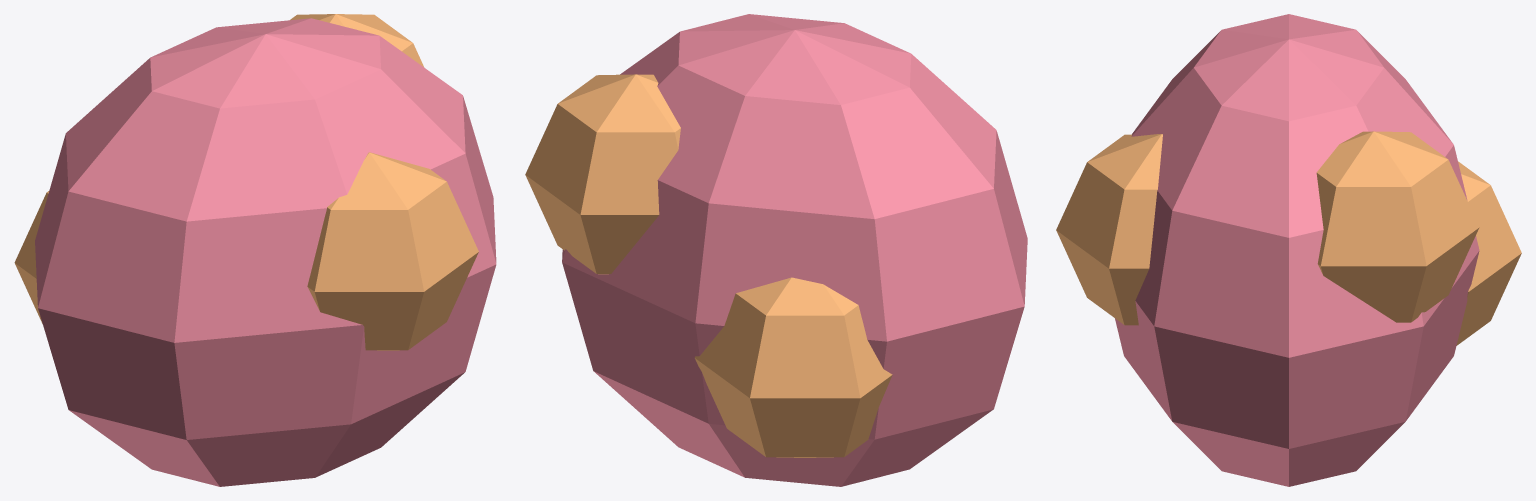
Rendered from coral_blob.glb.
3 views of the same model, side by side, from view 1: azimuth 30°, elevation 25°; view 2: azimuth 150°, elevation 25°; view 3: azimuth 270°, elevation 25° (orthographic). The views are drawn at different scales.
Visible parts, largest first — view 1: Sphere, Sphere.003, Sphere.001, Sphere.002; view 2: Sphere, Sphere.002, Sphere.001; view 3: Sphere, Sphere.001, Sphere.003, Sphere.002.
Part boxes in pixels (x1,y1,x2,y2): Sphere: (35,18,496,486); Sphere.003: (307,152,478,350); Sphere.001: (290,14,424,67); Sphere.002: (14,191,48,323); Sphere: (562,14,1027,486); Sphere.002: (694,277,892,457); Sphere.001: (525,74,680,274); Sphere: (1115,14,1479,486); Sphere.001: (1316,131,1479,322); Sphere.003: (1056,134,1162,325); Sphere.002: (1456,161,1521,345).
Bounding box in the file's own units: 1.2 × 1.1 × 1.1.
